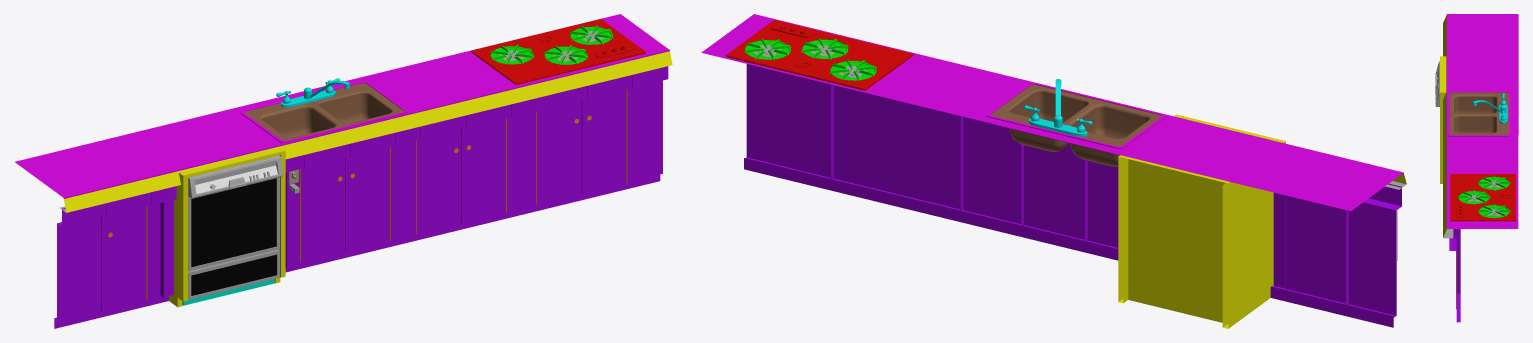
Rendered from KitchenCabinets_high.fbx.
3 views of the same model, side by side, from view 1: azimuth 30°, elevation 25°; view 2: azimuth 150°, elevation 25°; view 3: azimuth 270°, elevation 25° (orthographic). The views are drawn at different scales.
Parts seen in each view (by area): view 1: Countertop, Dishwasher, Stovetop, Sink; view 2: Countertop, Sink, Stovetop; view 3: Countertop, Stovetop, Sink, Dishwasher.
Boxes of the visible parts, box(x1,y1,x2,y2) form: Countertop: box(15, 14, 672, 328); Dishwasher: box(182, 155, 283, 305); Stovetop: box(471, 19, 645, 84); Sink: box(240, 78, 408, 143); Countertop: box(701, 14, 1406, 328); Sink: box(986, 79, 1166, 166); Stovetop: box(726, 20, 913, 90); Countertop: box(1440, 14, 1518, 322); Stovetop: box(1450, 174, 1515, 221); Sink: box(1448, 91, 1510, 136); Dishwasher: box(1435, 61, 1439, 106).
Size of the model in its own units: 80.87 by 20.96 by 13.22.
